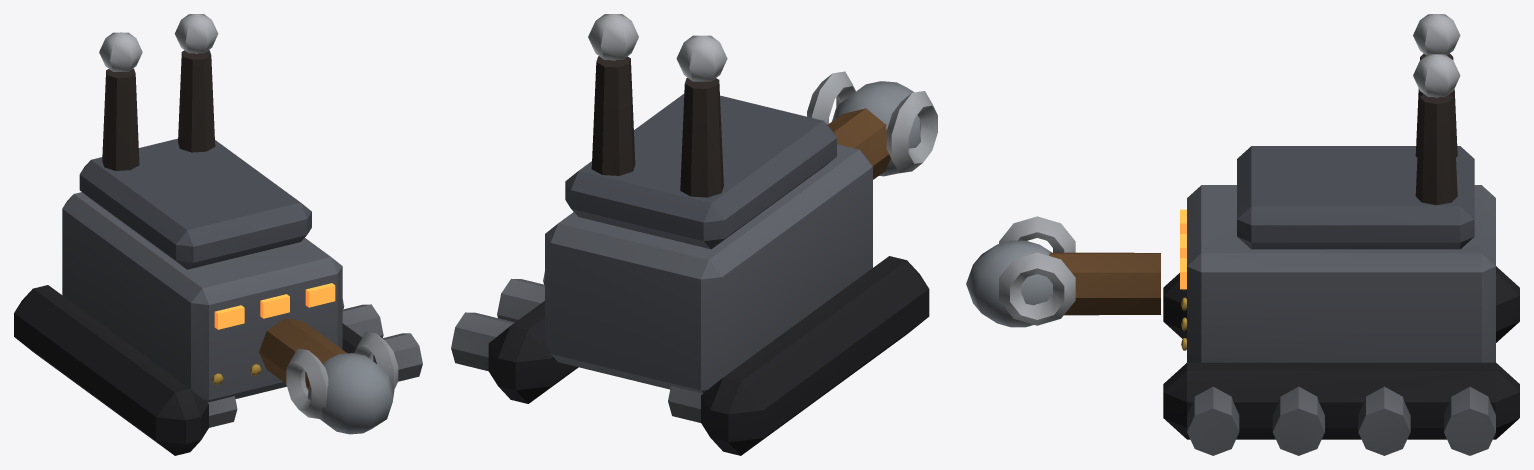
The model's file is juggernaut.glb.
3 views of the same model, side by side, from view 1: azimuth 30°, elevation 25°; view 2: azimuth 150°, elevation 25°; view 3: azimuth 270°, elevation 25° (orthographic). The views are drawn at different scales.
Visible parts, largest first — view 1: Corps_peint, Tete_peint, Corps_lueur; view 2: Corps_peint, Tete_peint; view 3: Corps_peint, Tete_peint, Corps_lueur.
Part boxes in pixels (box(x1,y1,x2,y2)): Corps_peint: box(14, 14, 422, 455); Tete_peint: box(259, 318, 398, 434); Corps_lueur: box(214, 283, 335, 329); Corps_peint: box(451, 14, 929, 455); Tete_peint: box(807, 71, 937, 179); Corps_peint: box(1163, 14, 1519, 455); Tete_peint: box(966, 216, 1160, 327); Corps_lueur: box(1180, 209, 1186, 289).
Bounding box in the file's own units: 0.6572 × 0.7642 × 1.09.
